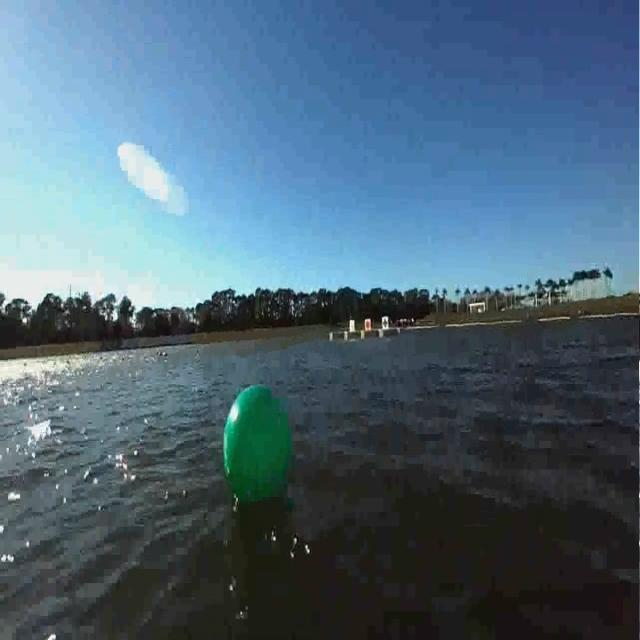green-buoy: (220, 379, 292, 508)
